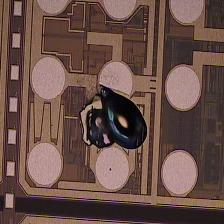PARTICLE: (74, 80, 154, 160)
